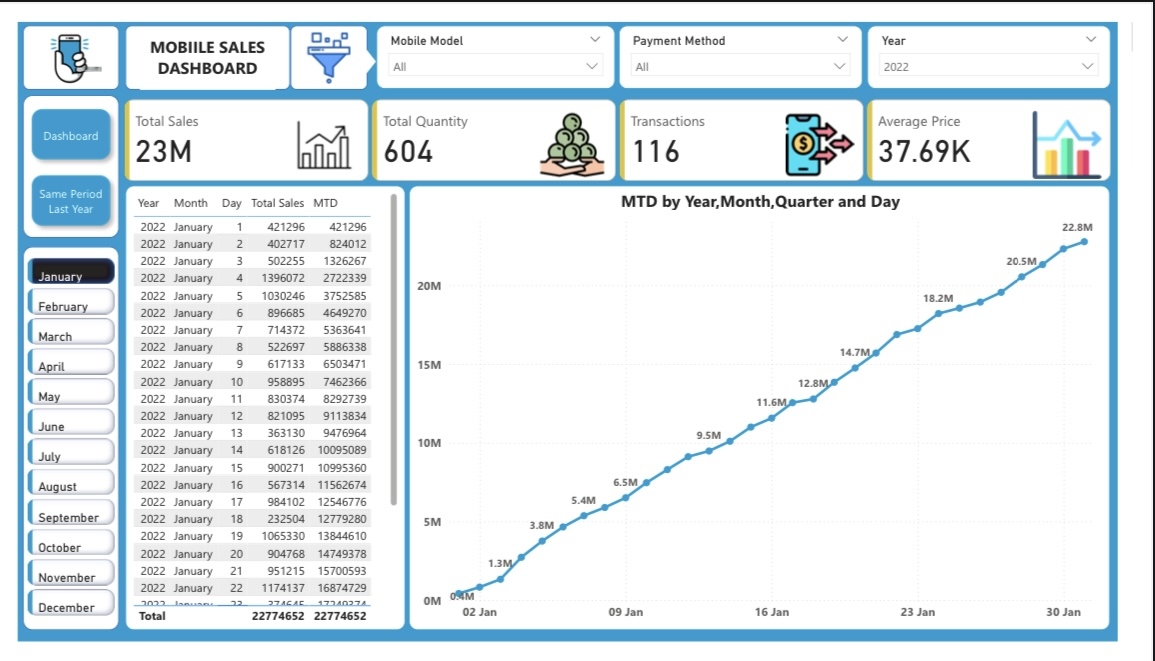

Layout of this report page (visuals, bound fields, positions):
{"tool":"powerbi","page":{"name":"MTD Report","canvas":[1280,720],"ordinal":1},"visuals":[{"type":"shape","box":[5.7,85,112,166],"z":0},{"type":"cardVisual","fields":{"Data":["My Measure.Total Sales","My Measure.Total Quantity","My Measure.Total Transactions","My Measure.Average Price"]},"box":[119,85,1159.4,104.9],"z":1000},{"type":"slicer","fields":{"Values":["Sales Data.Mobile Model"]},"box":[416.7,4.3,278,73.7],"z":2000},{"type":"slicer","fields":{"Values":["Custom Calender.Date.Variation.Date Hierarchy.Year"]},"box":[988,4.3,284,73.7],"z":3000},{"type":"slicer","fields":{"Values":["Sales Data.Payment Method"]},"box":[698.7,4.3,284,73.7],"z":4000},{"type":"shape","box":[317.5,4.3,89.3,75.1],"z":5000},{"type":"image","box":[317.5,5.7,89.3,72.3],"z":6000},{"type":"shape","box":[386.9,26.9,29.8,38.3],"z":7000},{"type":"shape","box":[124.7,4.3,192.8,75.1],"z":8000},{"type":"textbox","box":[141.7,9.9,158.7,69.4],"z":9000},{"type":"lineChart","title":"MTD by Year,Month,Quarter and Day","fields":{"Y":["My Measure.MTD"],"Category":["Custom Calender.Date.Variation.Date Hierarchy.Year","Custom Calender.Date.Variation.Date Hierarchy.Quarter","Custom Calender.Date.Variation.Date Hierarchy.Month","Custom Calender.Date.Variation.Date Hierarchy.Day"]},"box":[455,189.9,816.4,517.3],"z":10000},{"type":"shape","box":[5.7,260.8,112,446.5],"z":11000},{"type":"pageNavigator","box":[7,92,110,155],"z":12000},{"type":"advancedSlicerVisual","fields":{"Values":["Custom Calender.Date.Variation.Date Hierarchy.Month"]},"box":[5.7,269.3,112,429.4],"z":13000},{"type":"shape","box":[5.7,4.3,112,75.1],"z":14000},{"type":"image","box":[18,0,85,85],"z":15000},{"type":"tableEx","fields":{"Values":["Custom Calender.Date.Variation.Date Hierarchy.Year","Custom Calender.Date.Variation.Date Hierarchy.Month","Custom Calender.Date.Variation.Date Hierarchy.Day","My Measure.Total Sales","My Measure.MTD"]},"box":[124.7,189.9,326,517.3],"z":16000}]}

Visuals, with their boxes in screenshot pixels (x1, y1, x2, y2), scaled from the page's 1280x720 canvas onto the 1155x661 screenshot:
shape: [left=5, top=78, right=106, bottom=230]
cardVisual - My Measure.Total Sales x My Measure.Total Quantity: [left=107, top=78, right=1154, bottom=174]
slicer - Sales Data.Mobile Model: [left=376, top=4, right=627, bottom=72]
slicer - Custom Calender.Date.Variation.Date Hierarchy.Year: [left=892, top=4, right=1148, bottom=72]
slicer - Sales Data.Payment Method: [left=630, top=4, right=887, bottom=72]
shape: [left=286, top=4, right=367, bottom=73]
image: [left=286, top=5, right=367, bottom=72]
shape: [left=349, top=25, right=376, bottom=60]
shape: [left=113, top=4, right=286, bottom=73]
textbox: [left=128, top=9, right=271, bottom=73]
"MTD by Year,Month,Quarter and Day" lineChart: [left=411, top=174, right=1147, bottom=649]
shape: [left=5, top=239, right=106, bottom=649]
pageNavigator: [left=6, top=84, right=106, bottom=227]
advancedSlicerVisual - Custom Calender.Date.Variation.Date Hierarchy.Month: [left=5, top=247, right=106, bottom=641]
shape: [left=5, top=4, right=106, bottom=73]
image: [left=16, top=0, right=93, bottom=78]
tableEx - Custom Calender.Date.Variation.Date Hierarchy.Year x Custom Calender.Date.Variation.Date Hierarchy.Month: [left=113, top=174, right=407, bottom=649]
